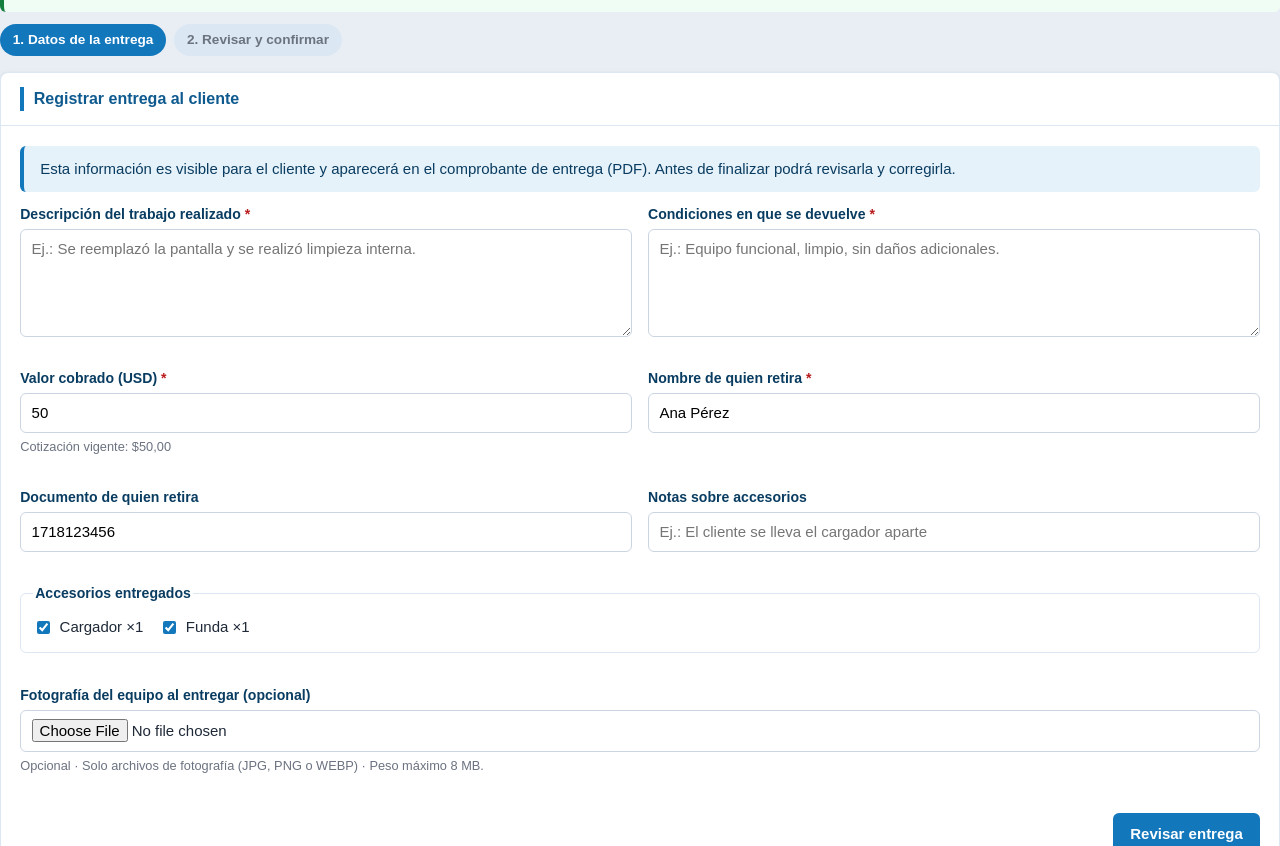
DeliverySection — editar, revisar y confirmar › permite volver a editar conservando lo escrito
This screenshot has width=1280, height=846.
Type "Cambio de pantalla" into the text box labelled "Descripción del trabajo realizado *". click: coordinates (326, 283)
box: [20, 229, 632, 337]
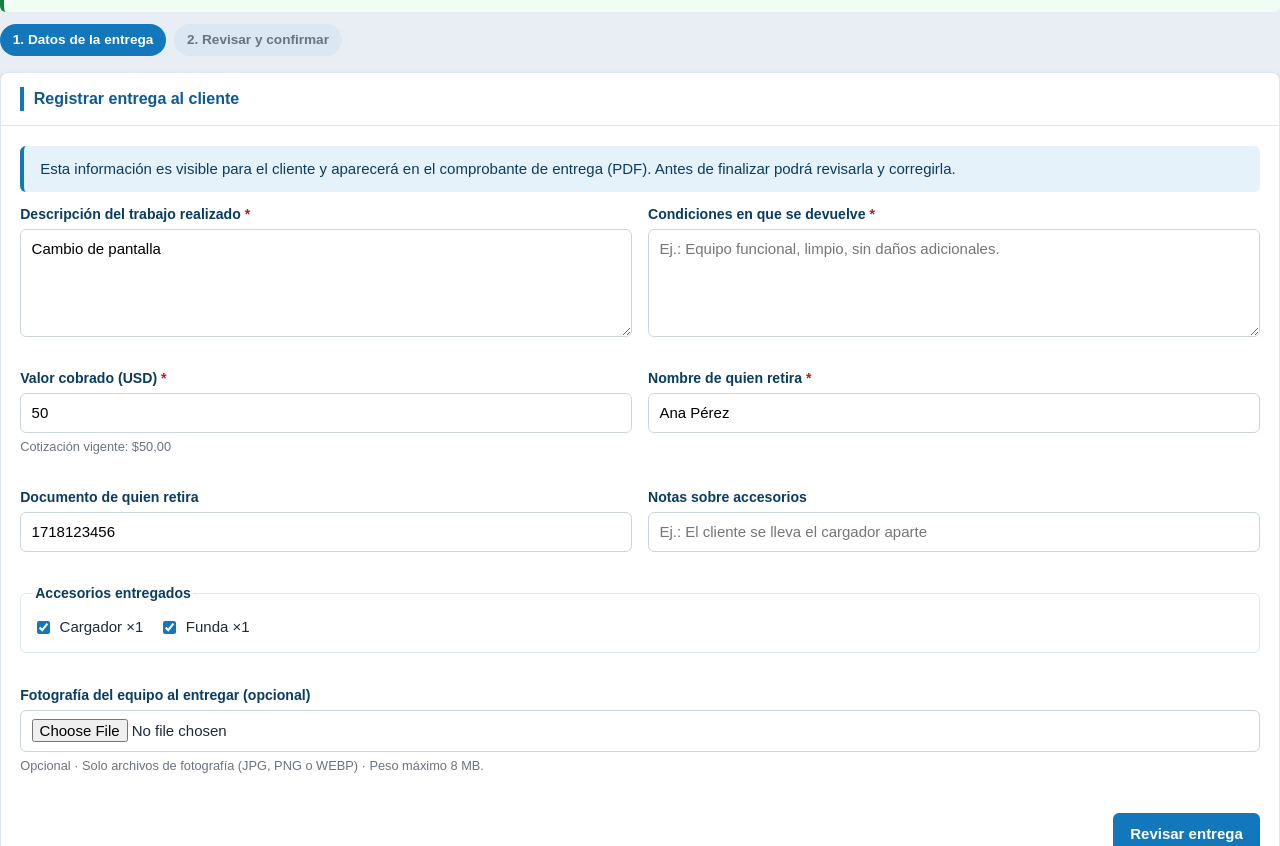
Type "Funcional y limpio" into the text box labelled "Condiciones en que se devuelve *". click: coordinates (954, 283)
box: [648, 229, 1260, 337]
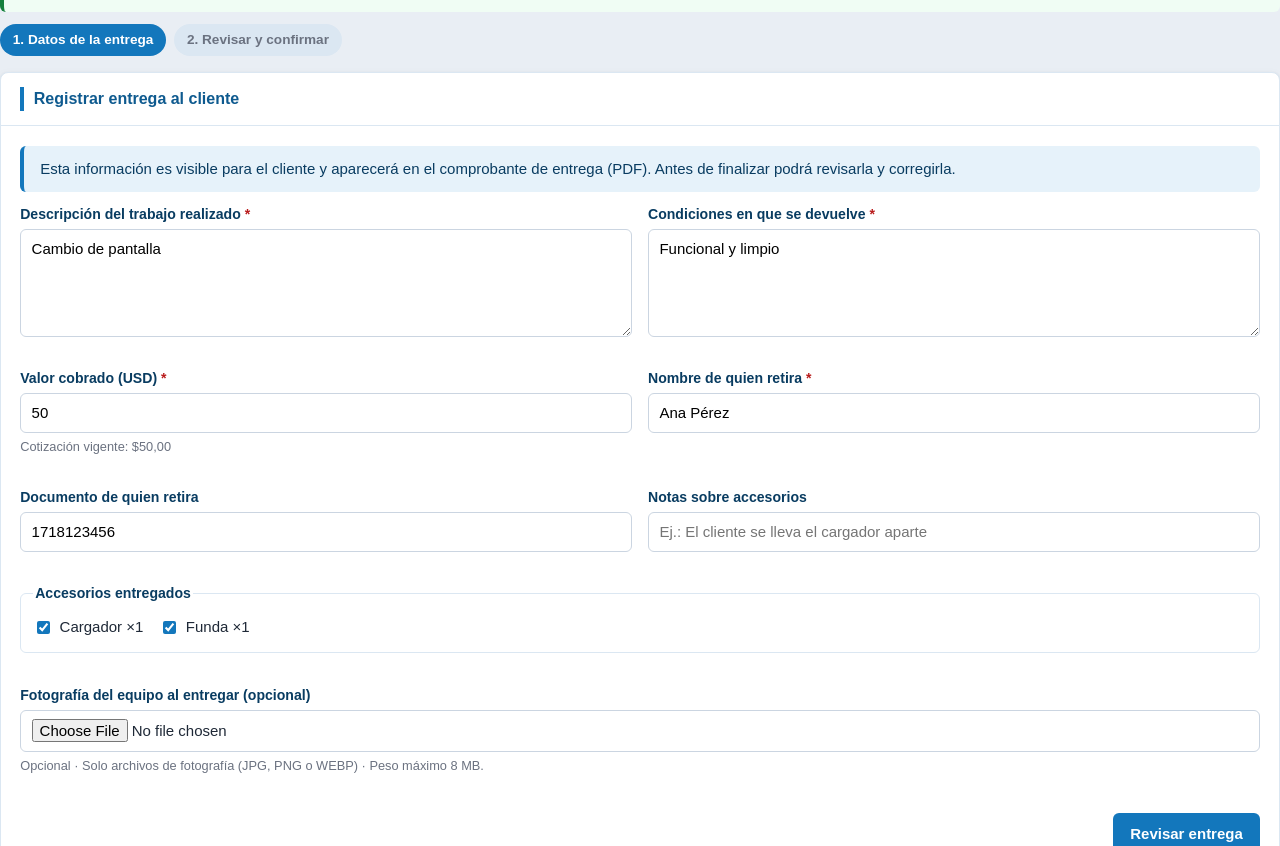
Replace the text in the field labelled "Valor cobrado (USD) *" with "60". click: coordinates (326, 413)
box: [20, 393, 632, 433]
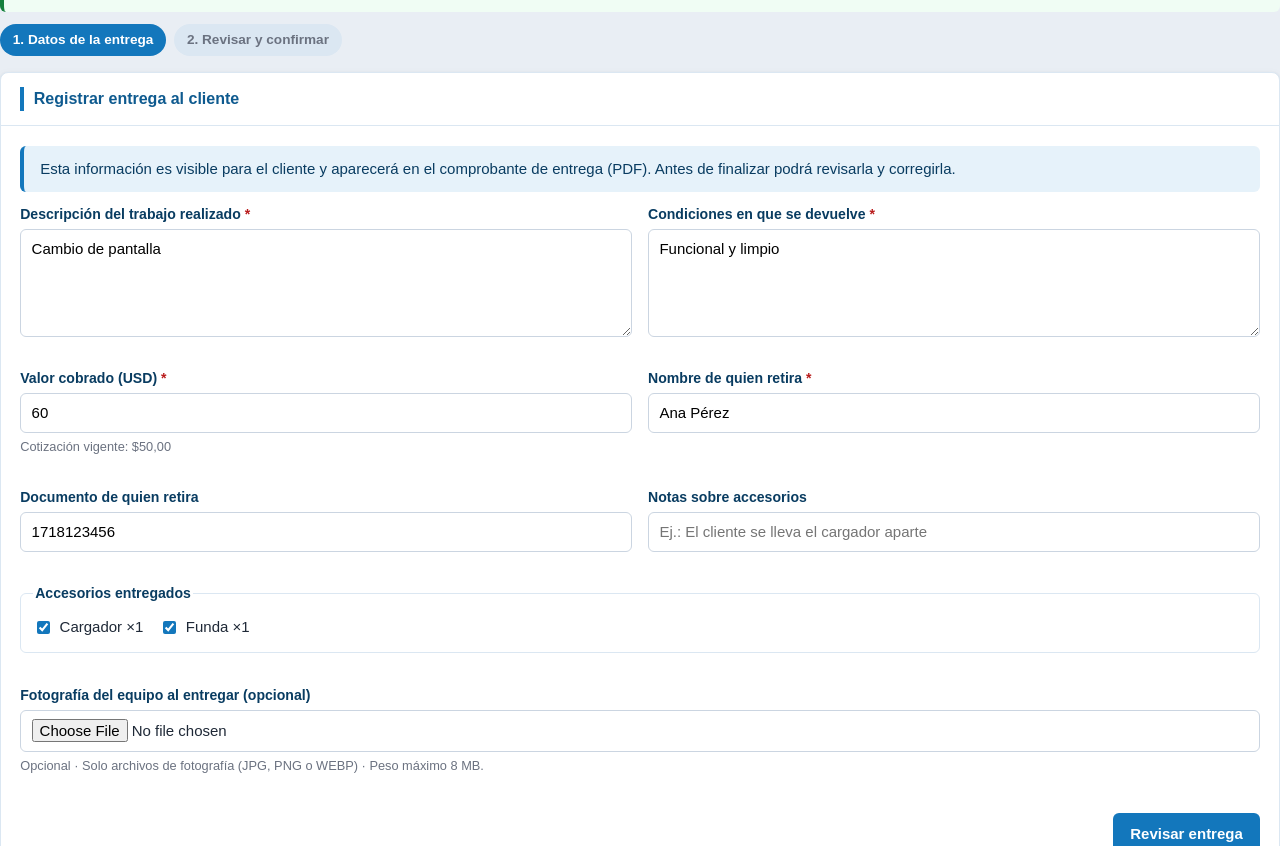
Click the checkbox labelled "Funda ×1". click: coordinates (170, 627)
box: [163, 621, 176, 634]
(page scrolled)
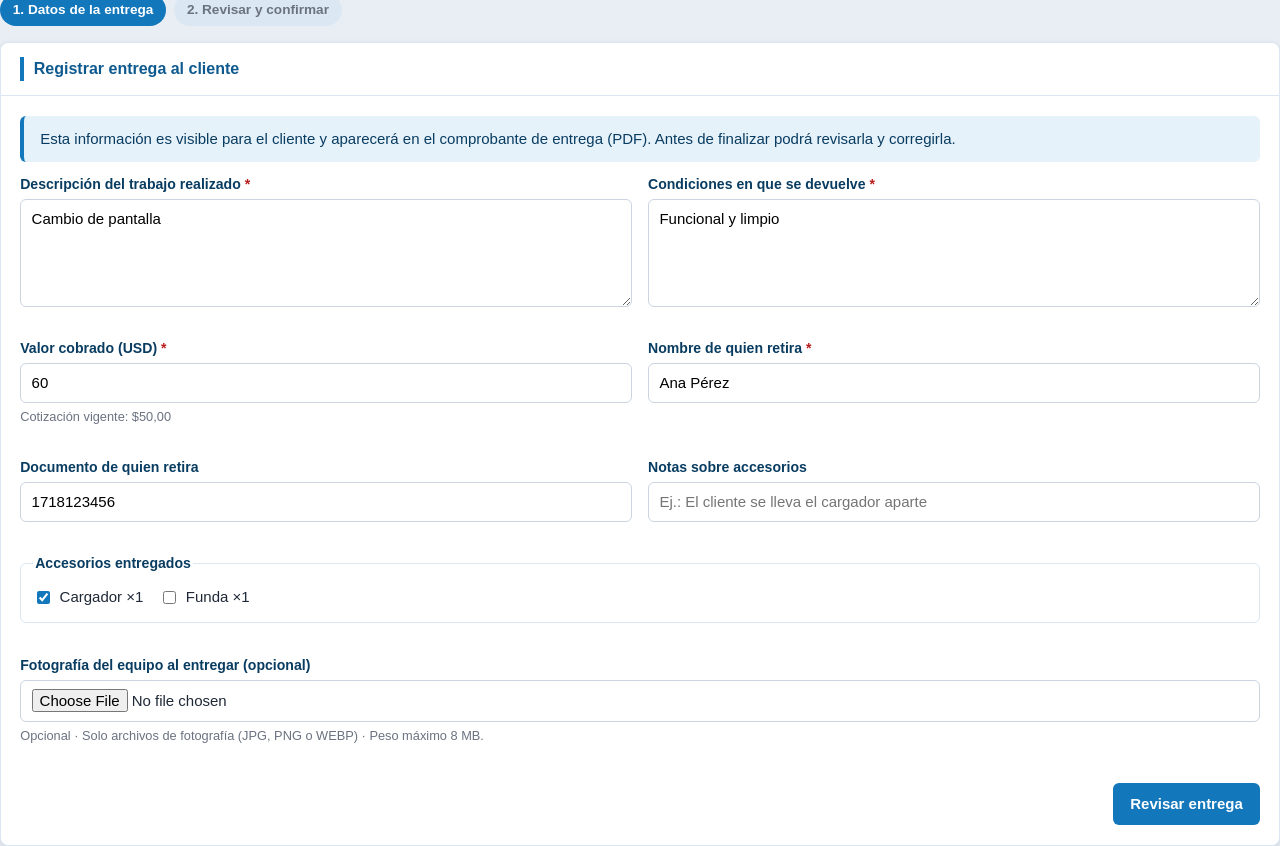
Click the button "Revisar entrega". click: coordinates (1187, 804)
box: [1113, 783, 1260, 826]
(page scrolled)
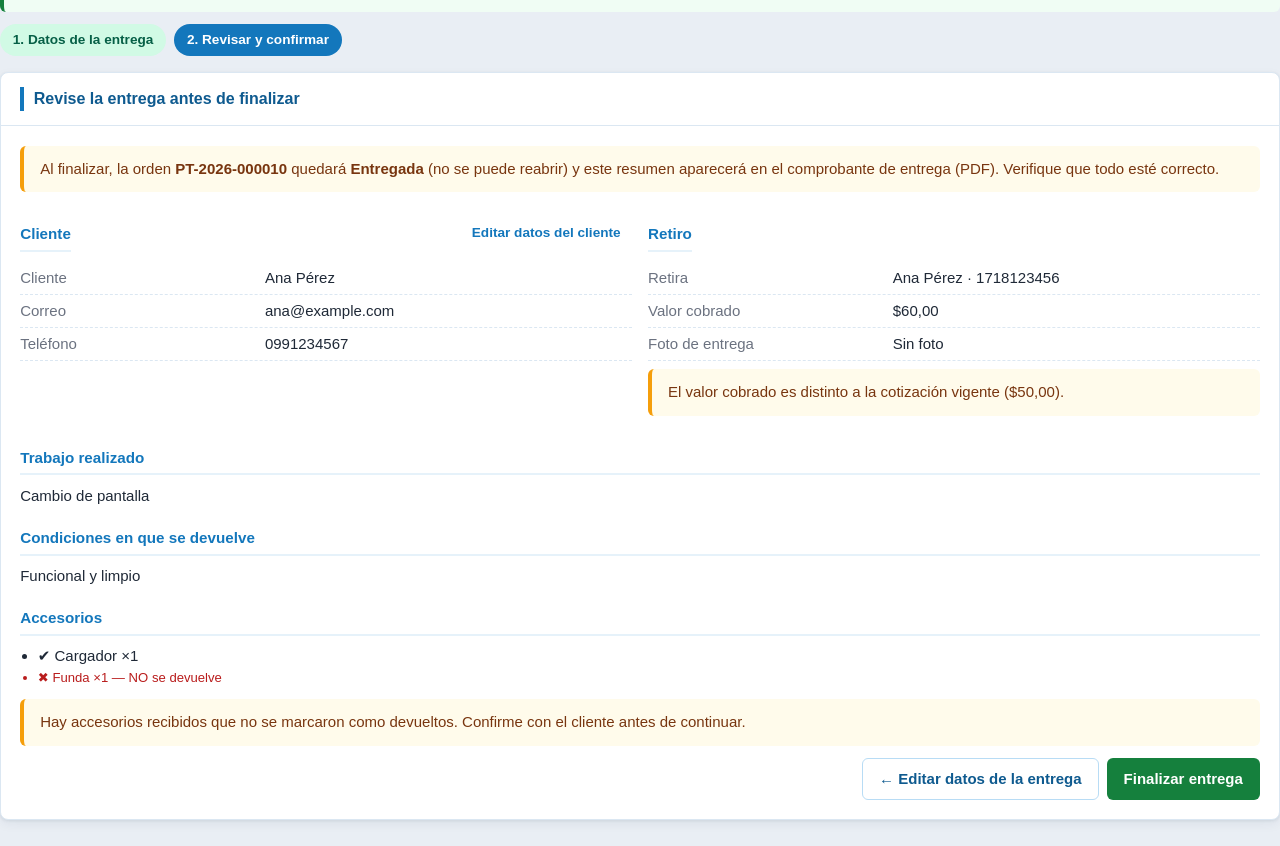
Click the button "← Editar datos de la entrega". click: coordinates (980, 779)
box: [862, 758, 1099, 800]
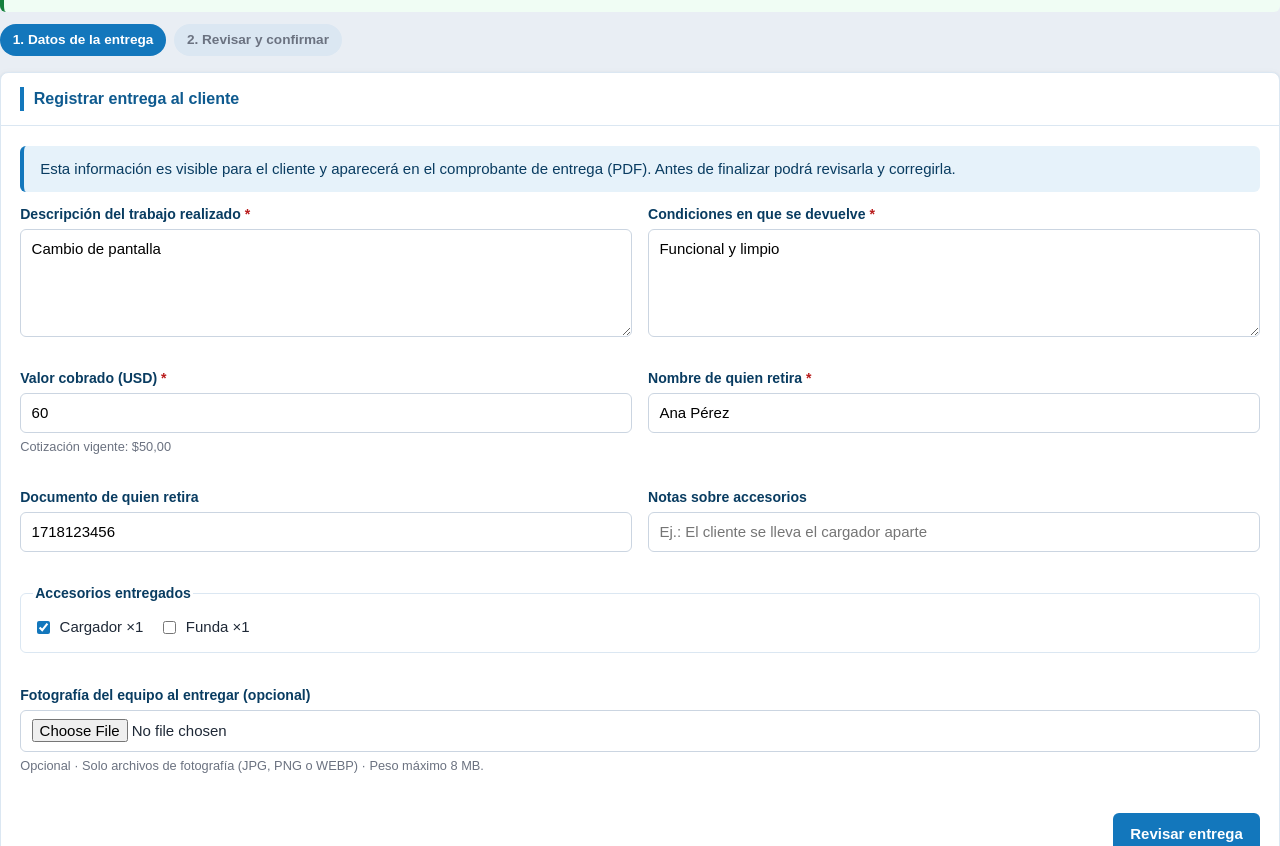
Result: the text box labelled "Descripción del trabajo realizado *" holds "Cambio de pantalla" at [20, 229, 632, 337]
Result: the field labelled "Valor cobrado (USD) *" holds "60" at [20, 393, 632, 433]
Result: the checkbox labelled "Funda ×1" is not checked at [163, 621, 176, 634]
